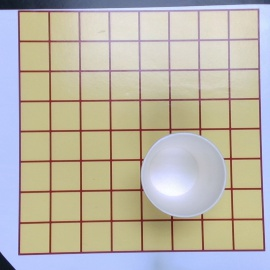cup: (140, 133, 227, 218)
